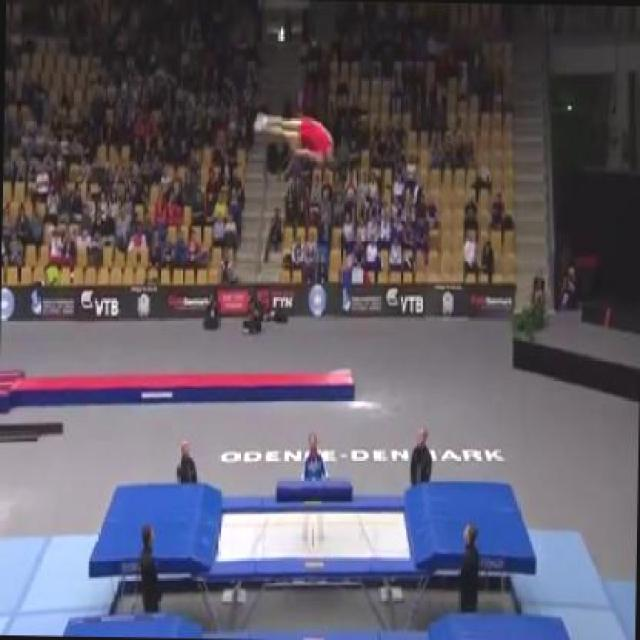non-fight: (253, 106, 342, 172)
